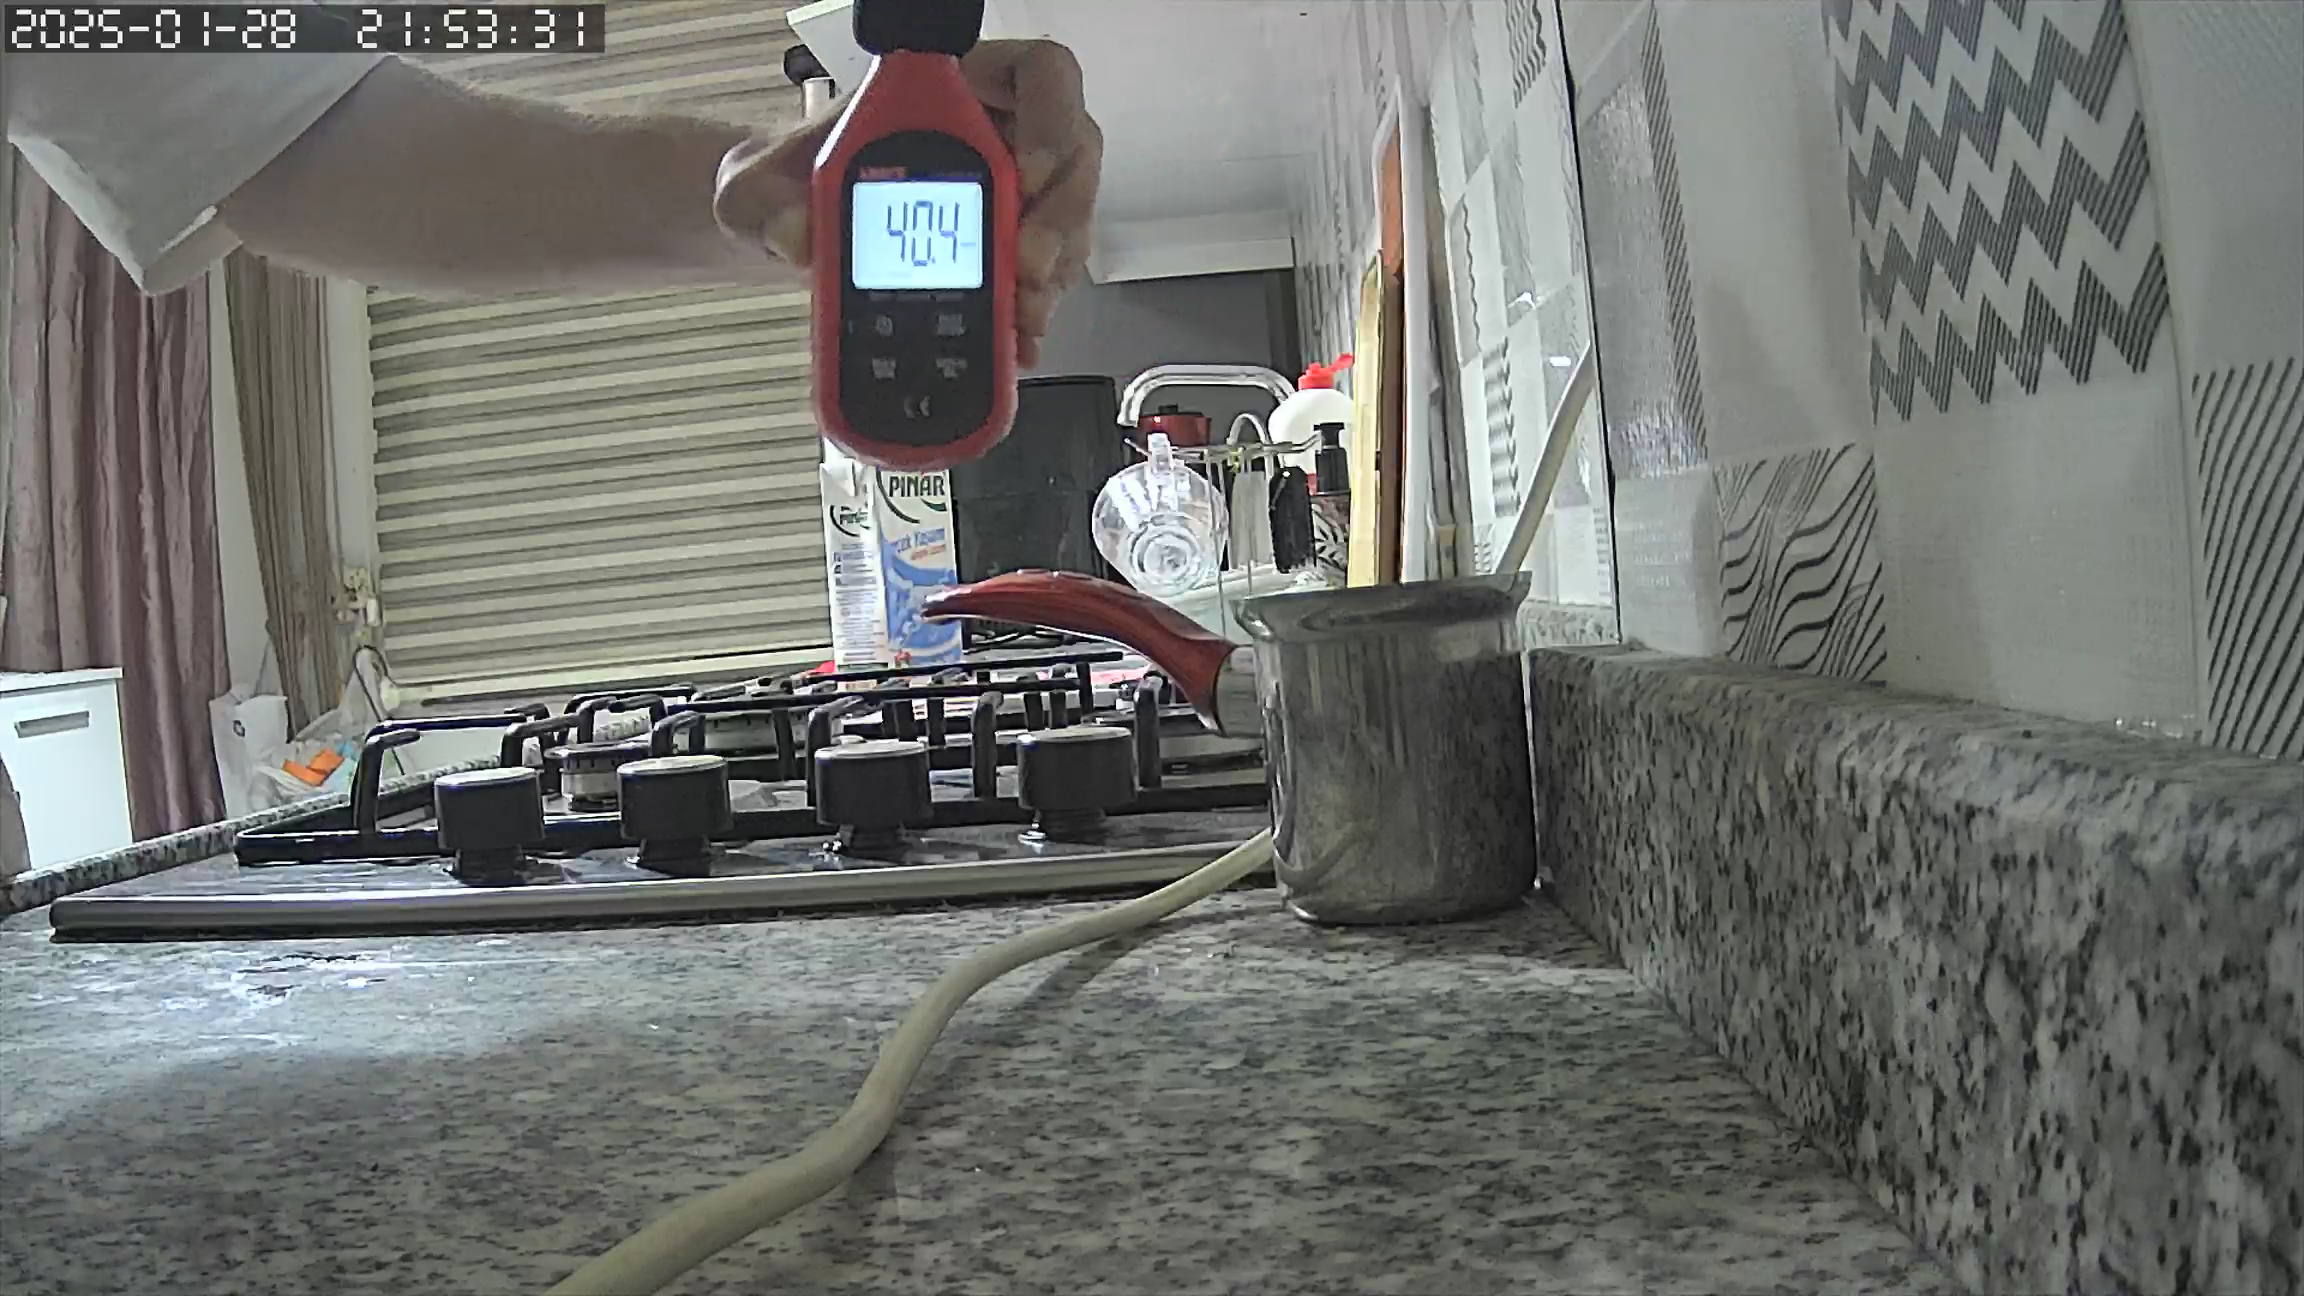screen: (850, 179, 986, 290)
